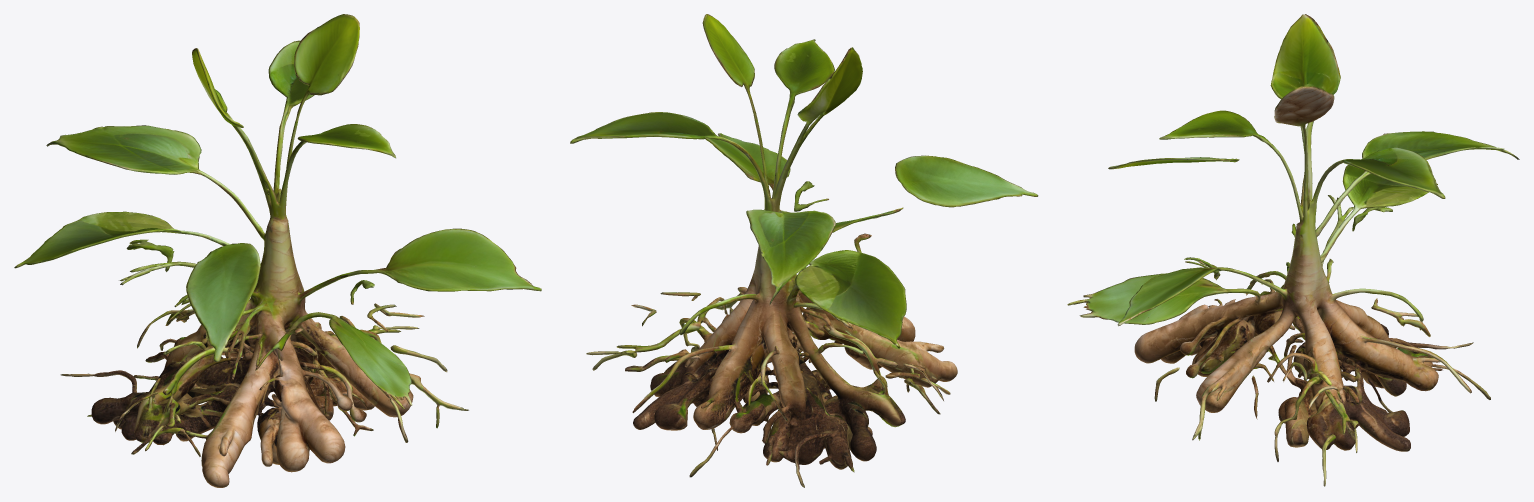
File: ginger.glb
The picture shows the model from 3 angles, left to right: view 1: azimuth 30°, elevation 25°; view 2: azimuth 150°, elevation 25°; view 3: azimuth 270°, elevation 25°; orthographic projection. The views are drawn at different scales.
Bounding box in the file's own units: 1.75 × 1.8 × 2.
Materials: 1 (1 with a texture image).
